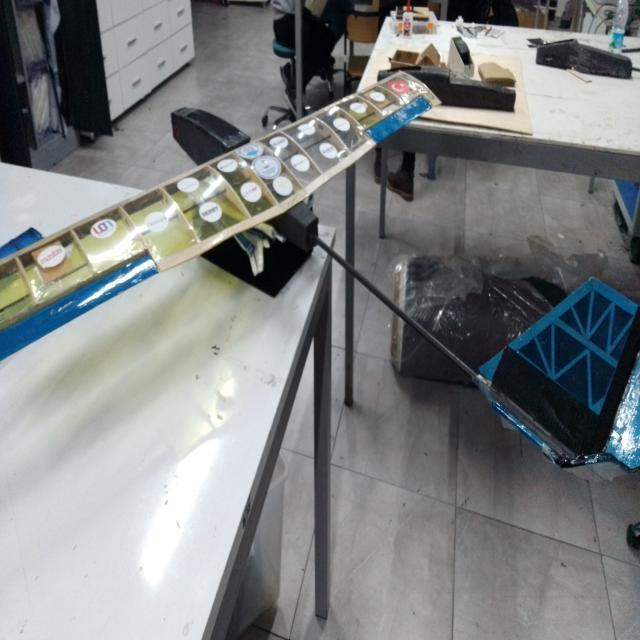iha: (96, 68, 614, 520)
